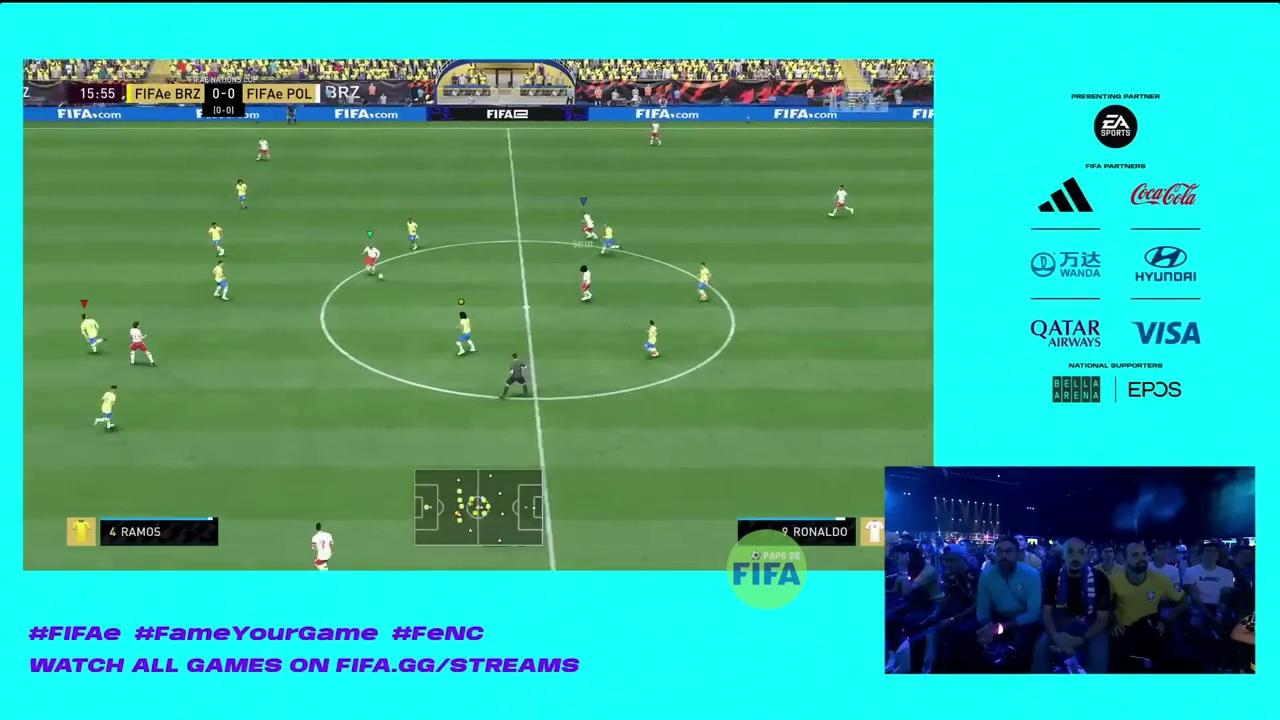scoreboard: (127, 83, 325, 108)
timestamp: (68, 82, 123, 104)
